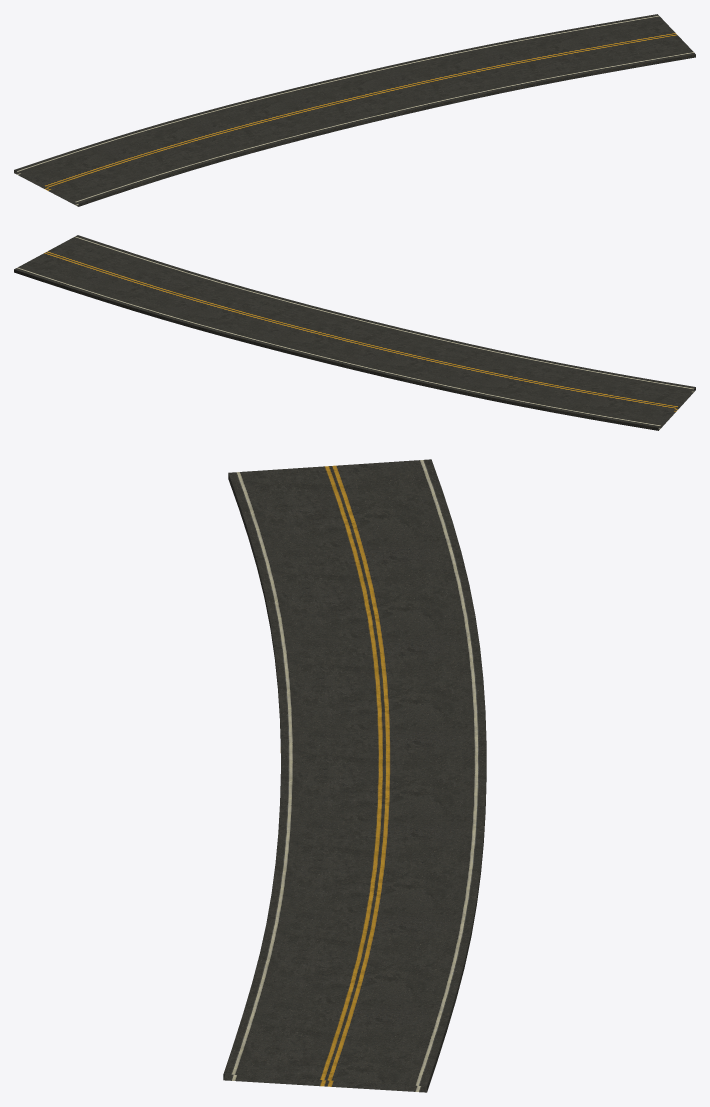
Rendered from SM_Road_03.fbx.
3 views of the same model, one above another, from view 1: azimuth 30°, elevation 25°; view 2: azimuth 150°, elevation 25°; view 3: azimuth 270°, elevation 25° (orthographic). The views are drawn at different scales.
Parts seen in each view (by area): view 1: SM_Road_03; view 2: SM_Road_03; view 3: SM_Road_03.
Part boxes in pixels (x1,y1,x2,y2): SM_Road_03: (14,14,695,206); SM_Road_03: (14,235,695,430); SM_Road_03: (223,459,486,1092).
Bounding box in the file's own units: 10819 × 1919 × 50.04.
1 material, 1 textured.
